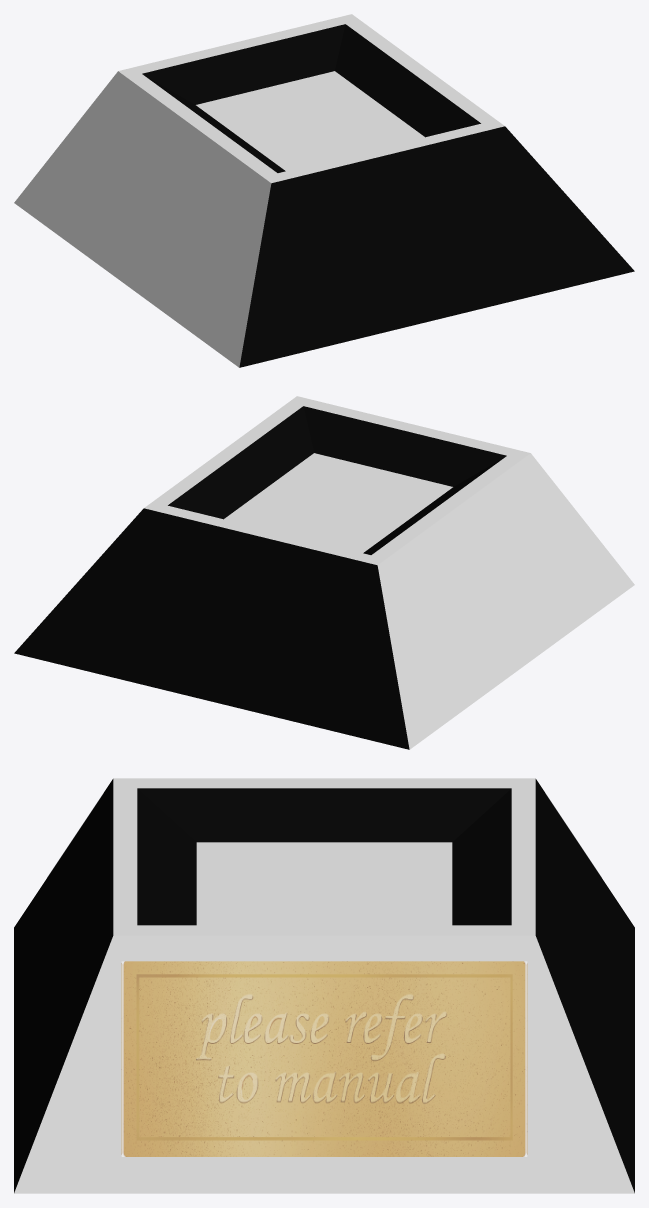
Rendered from Plarque.fbx.
3 renders of one model, top to bottom at view 1: azimuth 30°, elevation 25°; view 2: azimuth 150°, elevation 25°; view 3: azimuth 270°, elevation 25°, orthographic. The views are drawn at different scales.
Parts seen in each view (by area): view 1: Plark Holder; view 2: Plark Holder; view 3: Plark Holder.
Boxes of the visible parts, x1,y1,x2,y2 form: Plark Holder: (14,14,634,367); Plark Holder: (14,396,634,749); Plark Holder: (14,778,634,1193).
Bounding box in the file's own units: 42.26 × 14.45 × 41.7.
